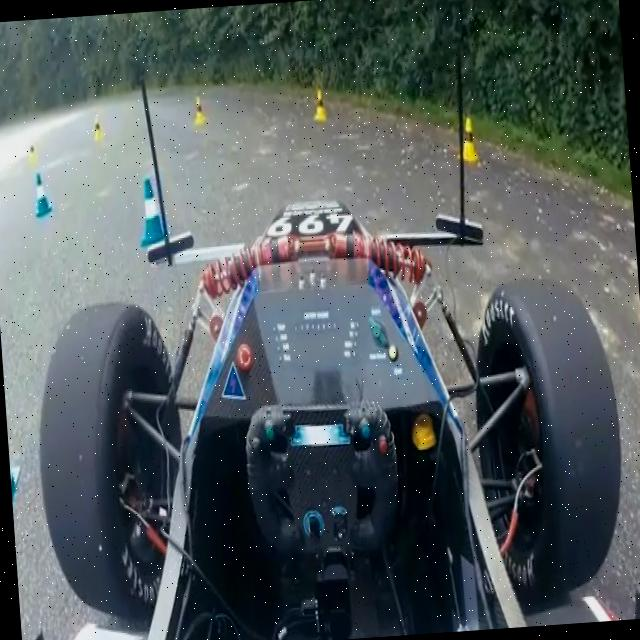blue_cone: (130, 174, 167, 247), (5, 404, 22, 522), (29, 169, 52, 218)
yellow_cone: (456, 115, 478, 163), (312, 88, 326, 125), (190, 98, 204, 130), (90, 117, 102, 145), (26, 140, 38, 166)
